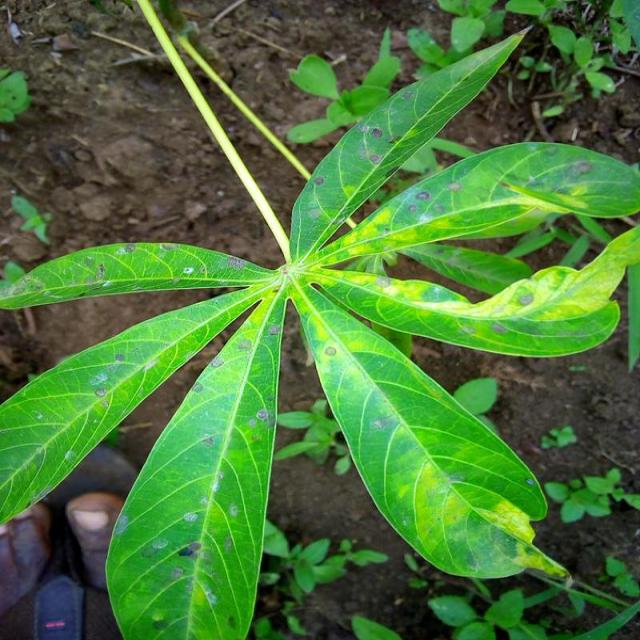Mosaico: (39, 178, 628, 585)
